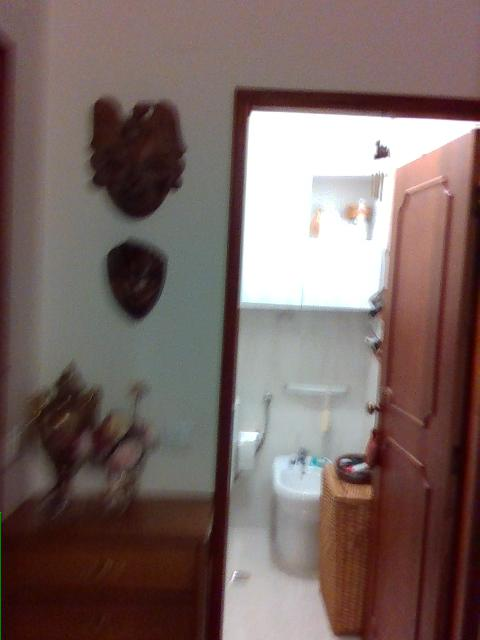door: (364, 127, 479, 639)
